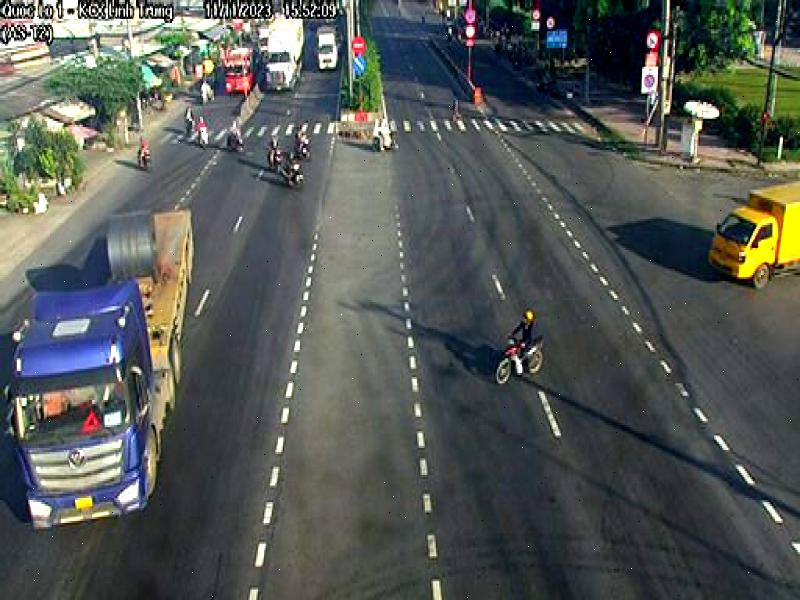truck: (6, 211, 195, 532), (711, 177, 800, 289), (266, 13, 303, 93)
